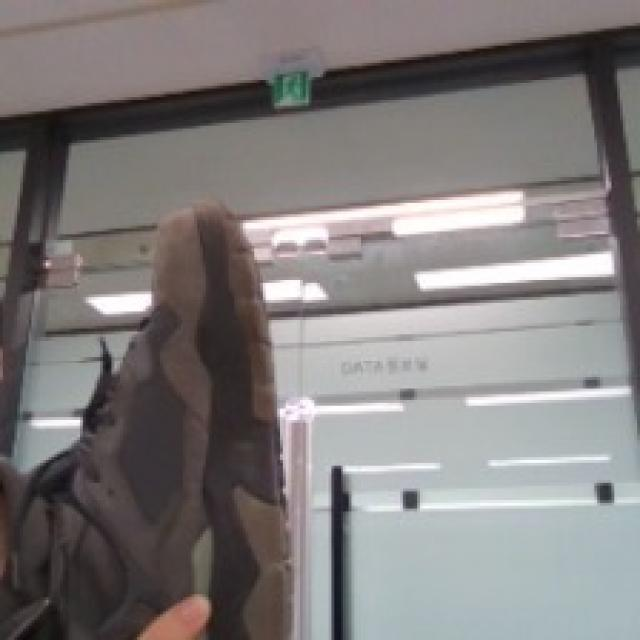shoe: (23, 187, 319, 639)
